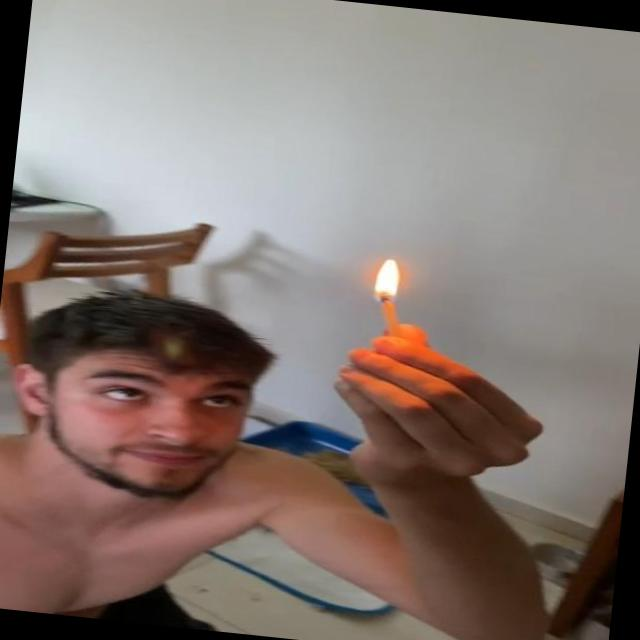Fire: (365, 256, 410, 306)
